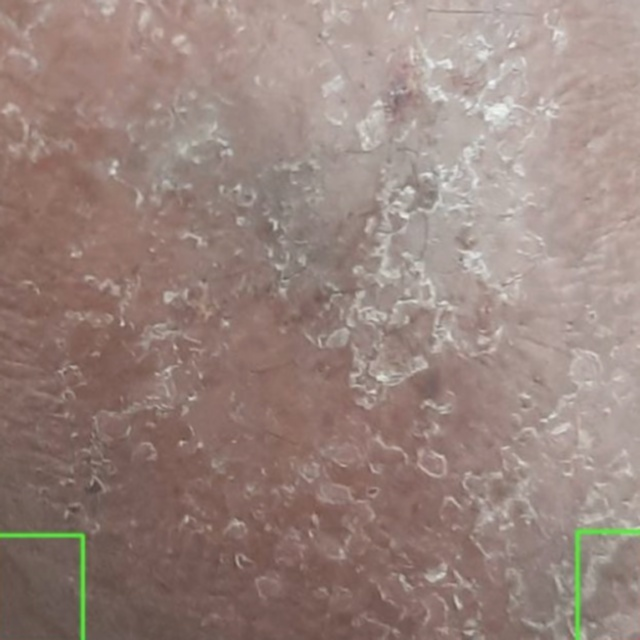Eczema: (0, 535, 83, 639), (576, 531, 639, 639)
